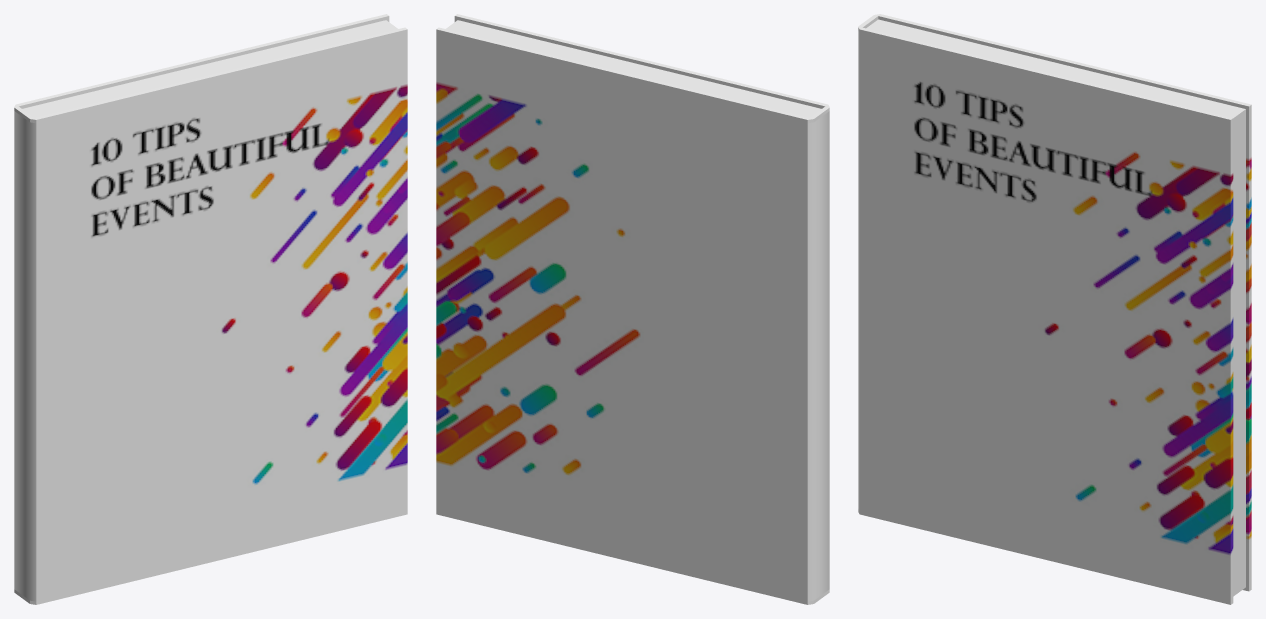
Rendered from book19.FBX.
3 views of the same model, side by side, from view 1: azimuth 30°, elevation 25°; view 2: azimuth 150°, elevation 25°; view 3: azimuth 330°, elevation 25° (orthographic).
Parts seen in each view (by area): view 1: book19; view 2: book19; view 3: book19.
Part boxes in pixels (<box>): book19: <box>14,14,407,604</box>; book19: <box>436,14,829,604</box>; book19: <box>858,14,1251,604</box>.
Bounding box in the file's own units: 8.05 × 0.7802 × 9.94.
1 material, 1 textured.
